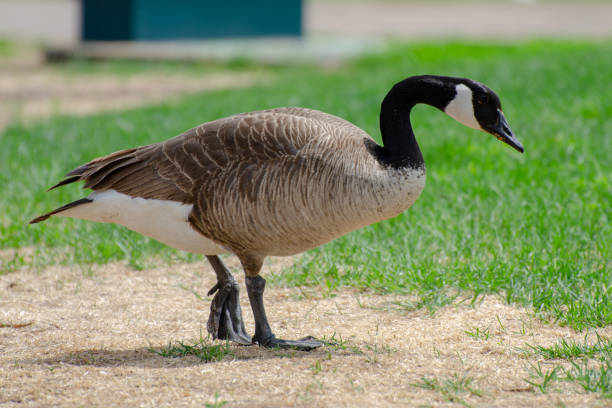goose: (23, 72, 527, 358)
